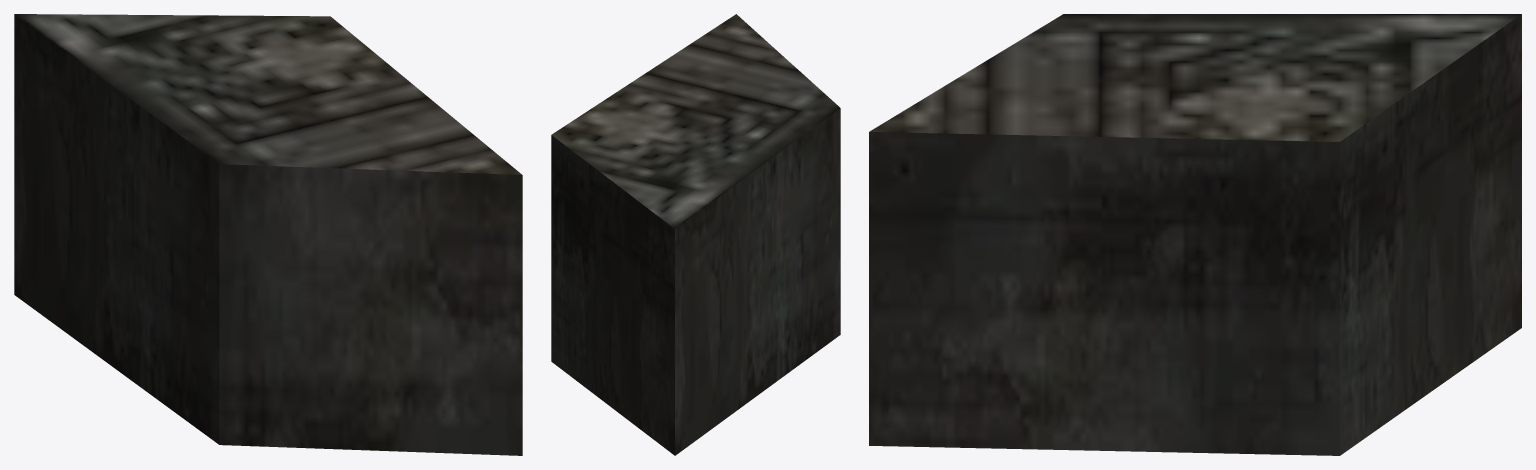
File: piece01_05.glb
3 renders of one model, left to right at view 1: azimuth 30°, elevation 25°; view 2: azimuth 150°, elevation 25°; view 3: azimuth 270°, elevation 25°, orthographic. The views are drawn at different scales.
Visible parts, largest first — view 1: model_piece01_05; view 2: model_piece01_05; view 3: model_piece01_05.
Boxes of the visible parts, left/top/right/bottom form: model_piece01_05: left=14, top=14, right=522, bottom=455; model_piece01_05: left=551, top=14, right=840, bottom=455; model_piece01_05: left=869, top=14, right=1521, bottom=455.
Size of the model in its own units: 0.4018 by 0.4595 by 0.8659.
Materials: 1 (1 with a texture image).
